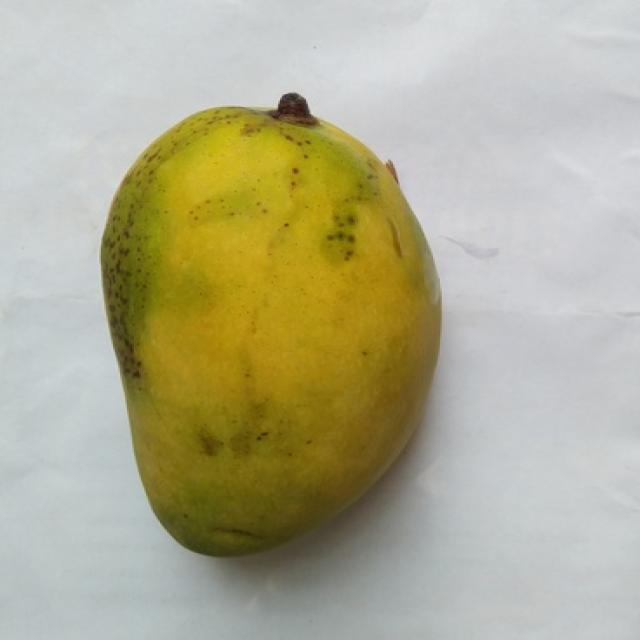Mango: (103, 107, 438, 554)
